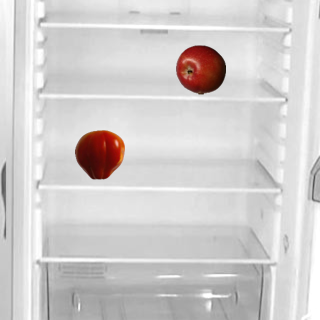Apple Braeburn: (175, 44, 225, 94)
Tomato 1: (74, 129, 124, 179)
